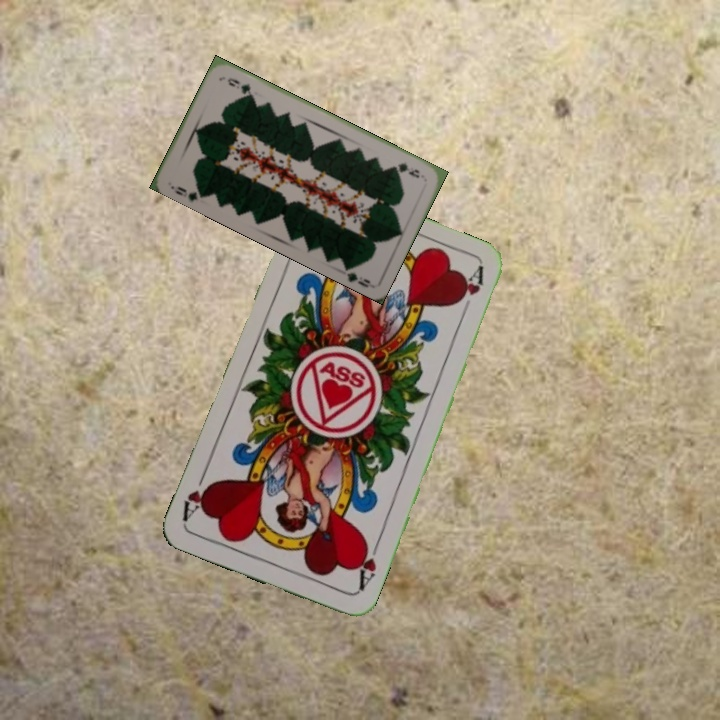G9: (171, 182, 208, 204), (389, 158, 422, 181)
HA: (352, 537, 383, 594)
